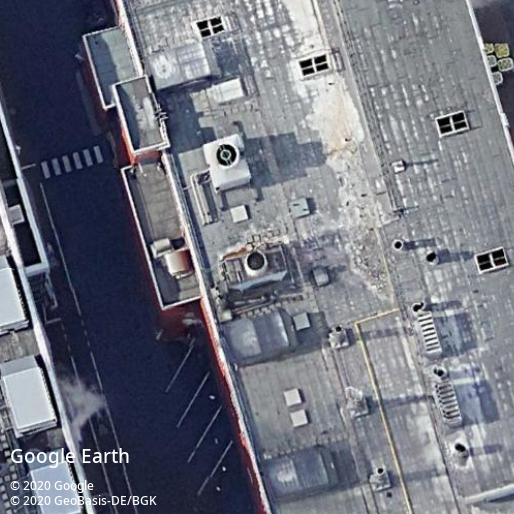Vent: (215, 143, 239, 168)
